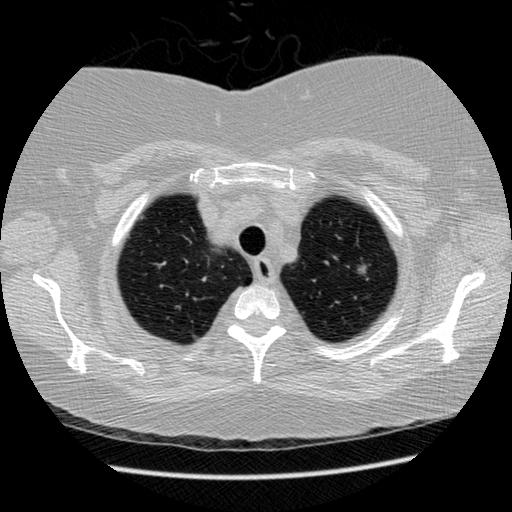nodule: (354, 262, 369, 277)
